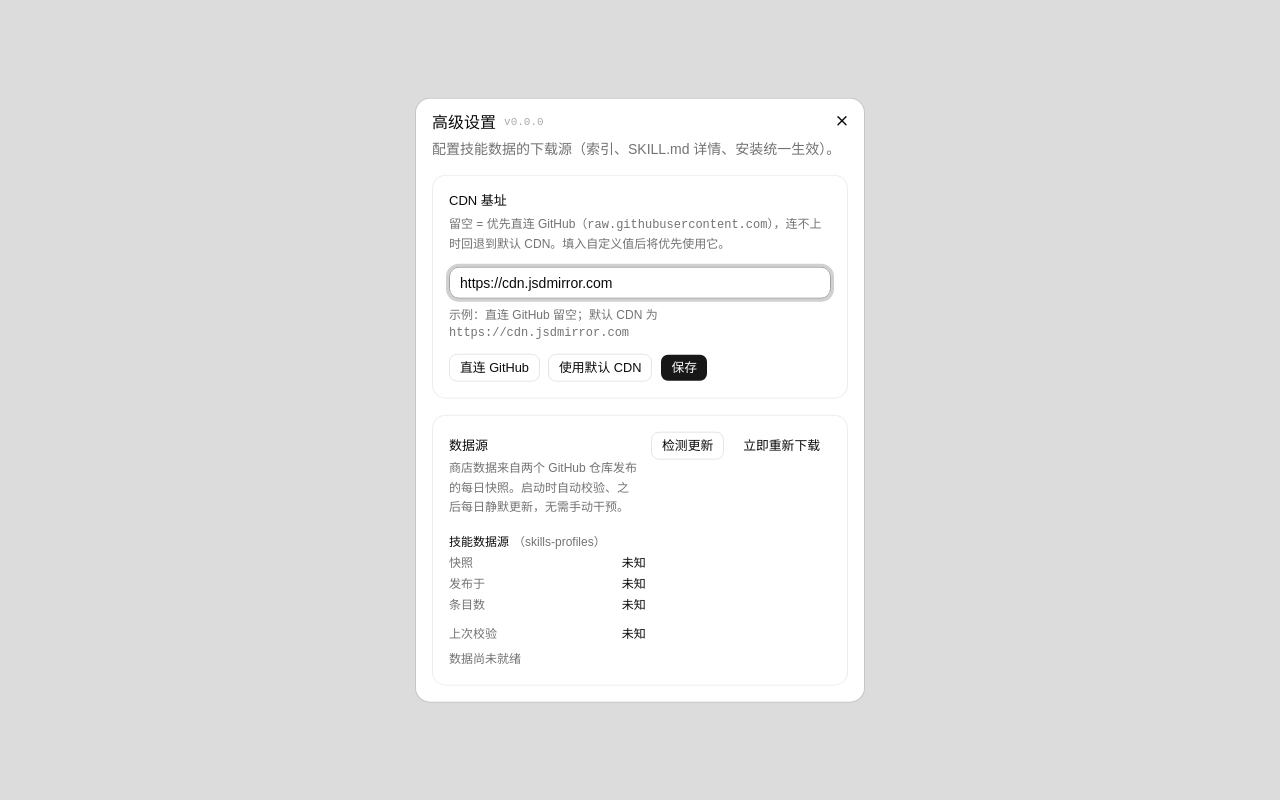
Test: AdvancedSettingsDialog › reports a current manual check
This screenshot has width=1280, height=800.
Click the button "检测更新" at (688, 446), box [651, 432, 724, 460]
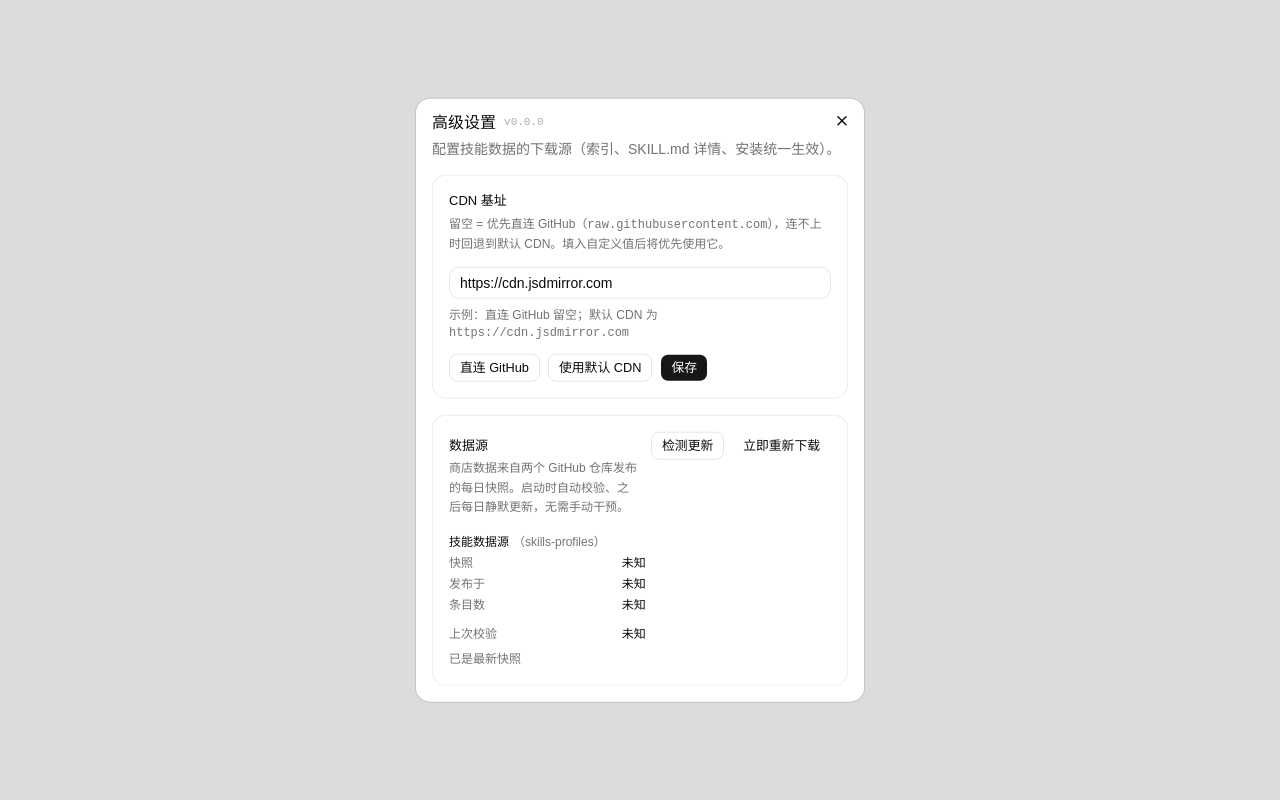
Expected: the text "已是最新快照" is shown, [449, 652, 521, 666]
